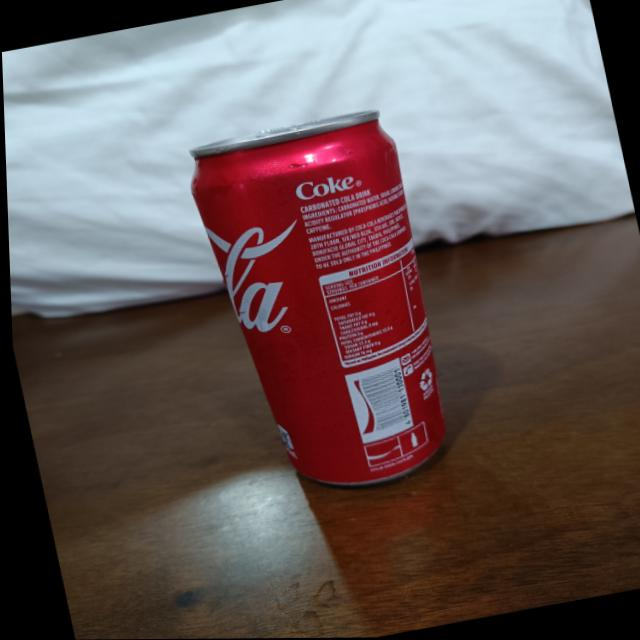coke: (177, 106, 464, 507)
